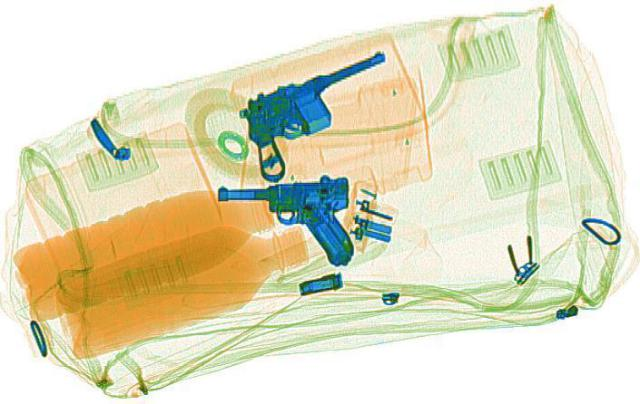Gun: (191, 42, 449, 181), (213, 173, 363, 271)
